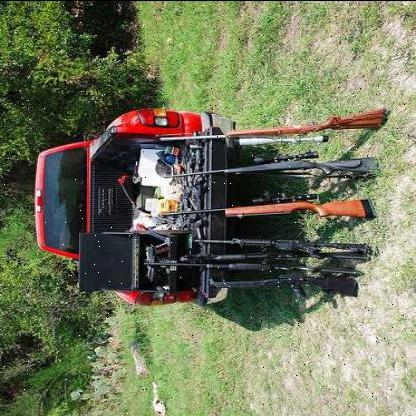rifle: (155, 191, 380, 232), (229, 99, 393, 145), (162, 150, 369, 183), (191, 233, 367, 255), (210, 273, 357, 296)
